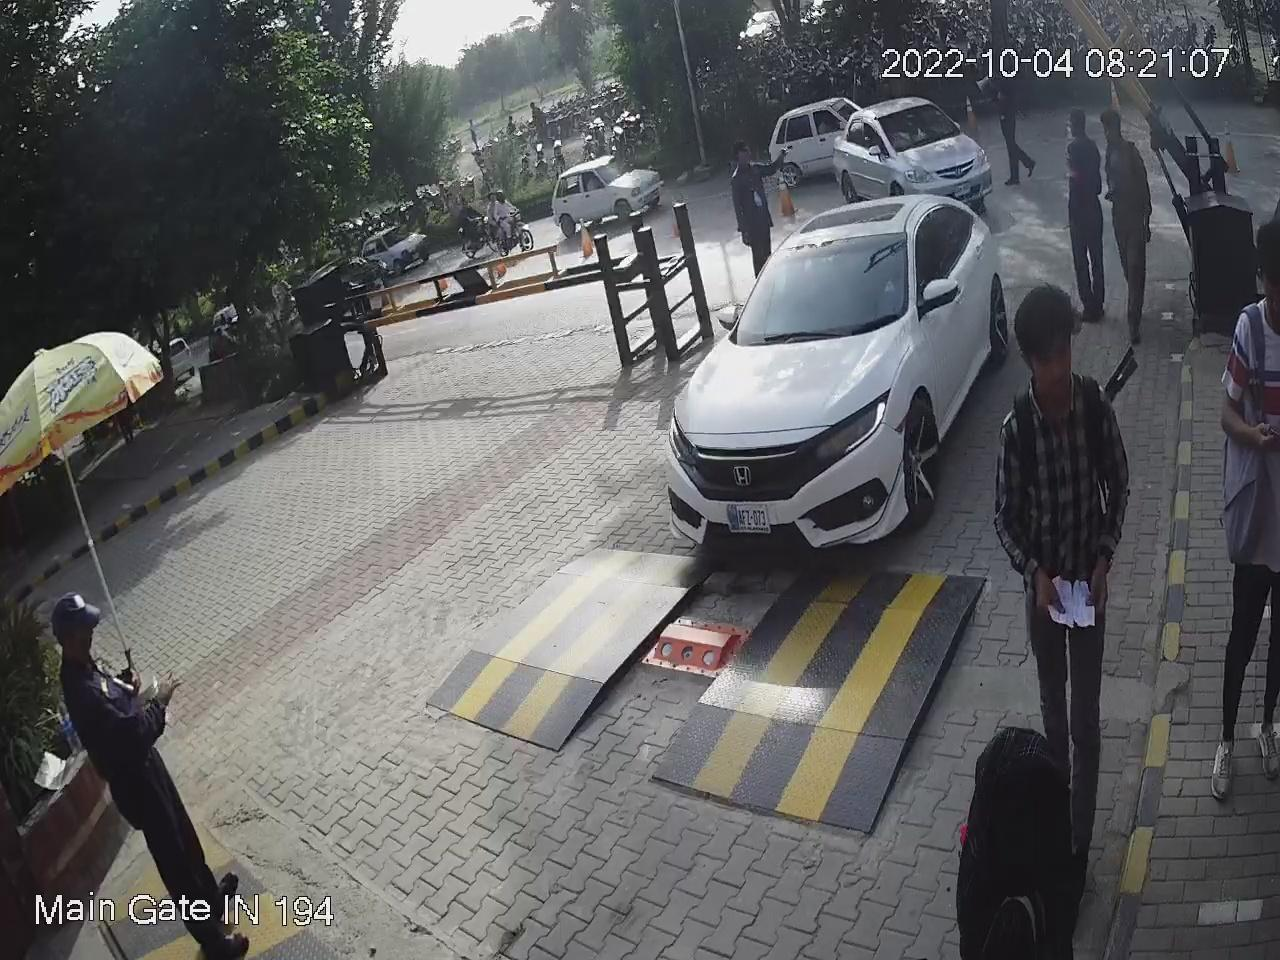windshield: (733, 225, 913, 340)
